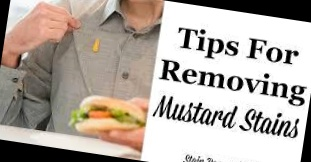mustard: (89, 35, 105, 56)
